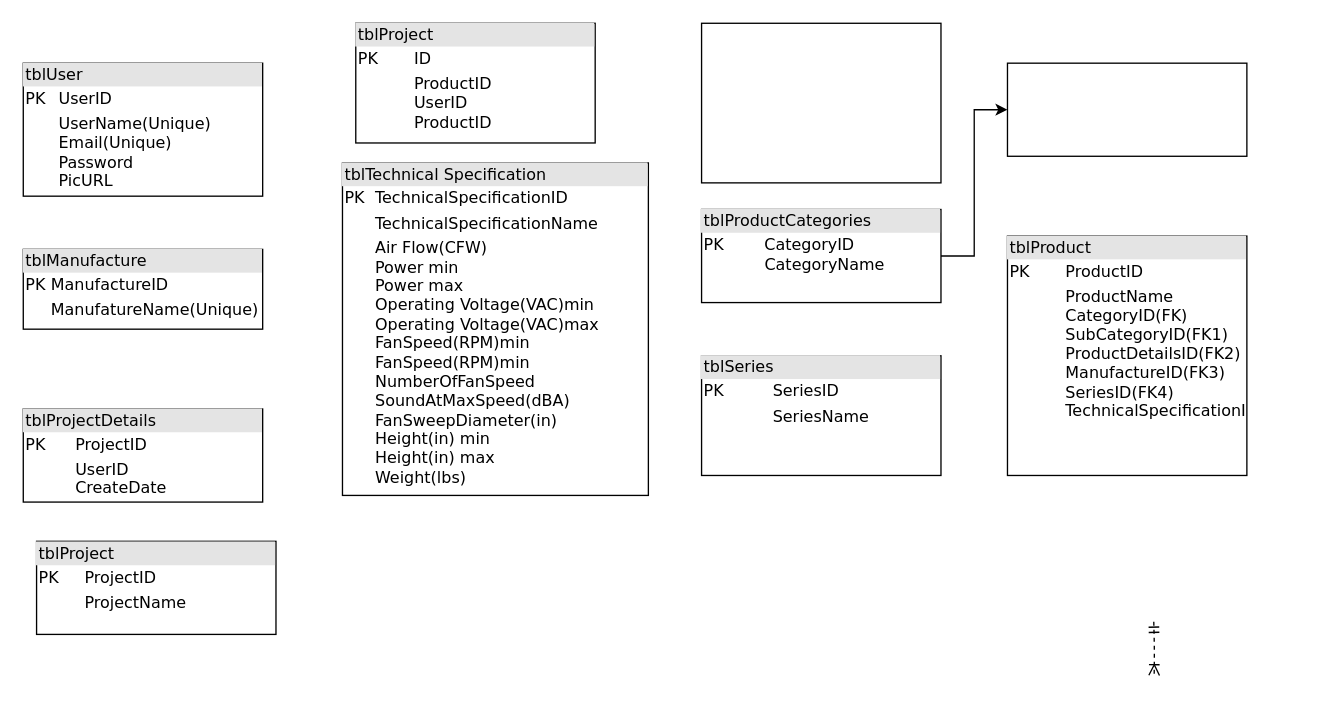
Image size: 1322x712. Some labels were removed from this diagram. Each missing label, with the box of its shape:
tblProductSubCategories PK SubCategoryID FK CategoryID SubCategoryName: (1006, 62, 1247, 156)
tblProductType PK UseType Application MountingLocation Accessories ModelYear: (700, 22, 941, 183)
